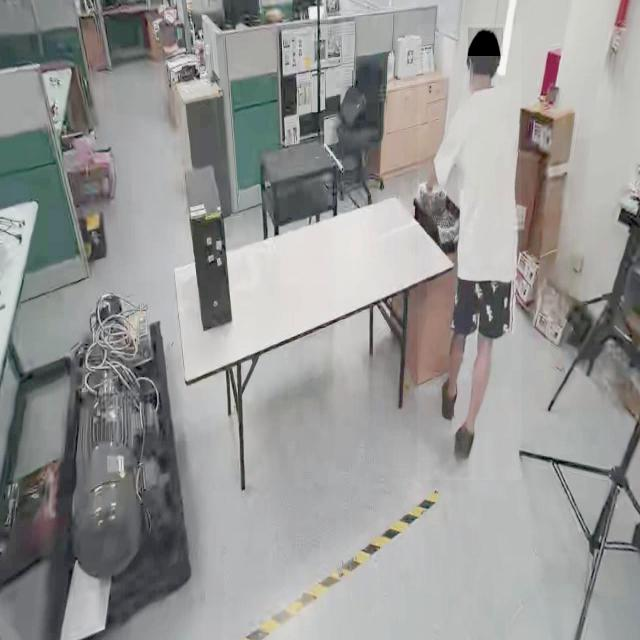head_nohelmet: (467, 27, 503, 57)
person: (417, 24, 521, 481)
shoes: (437, 369, 463, 419), (454, 419, 478, 464)
